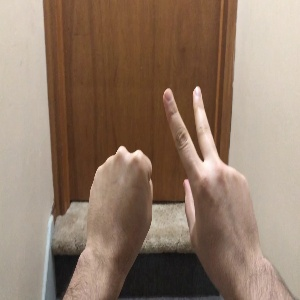hand: (164, 87, 260, 257), (88, 147, 153, 244)
